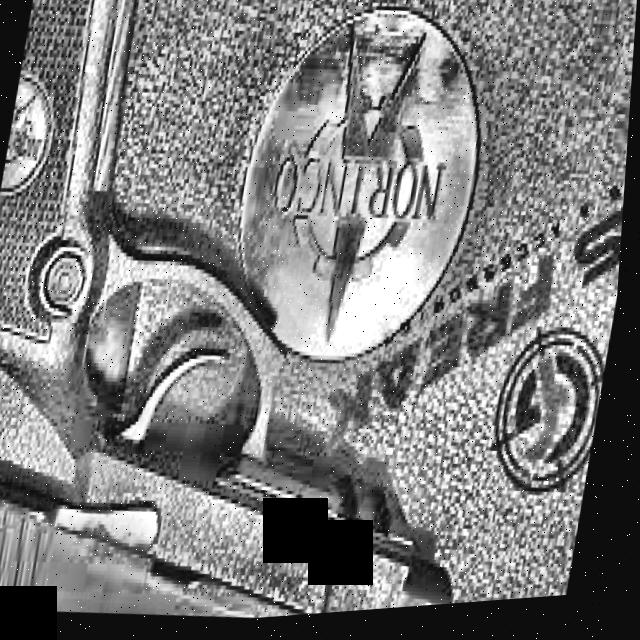Norinco: (0, 0, 572, 640)
